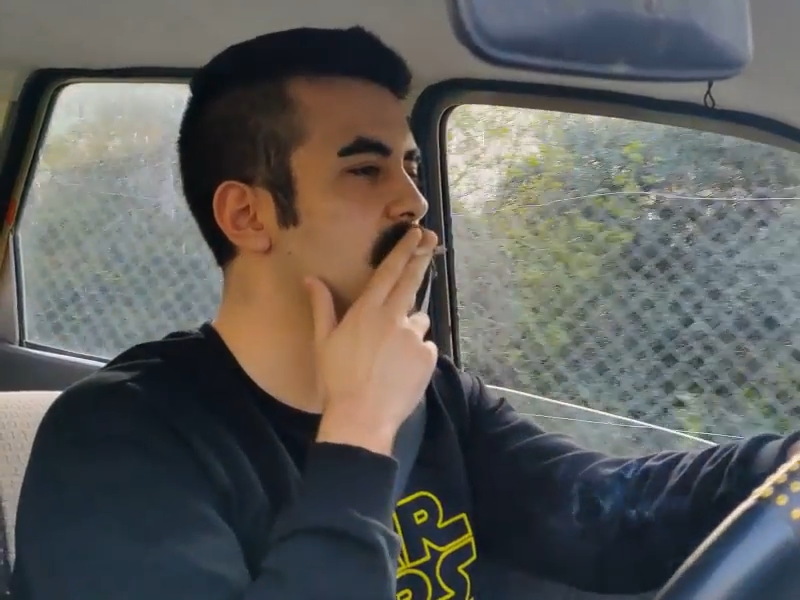sigara: (397, 237, 449, 269)
